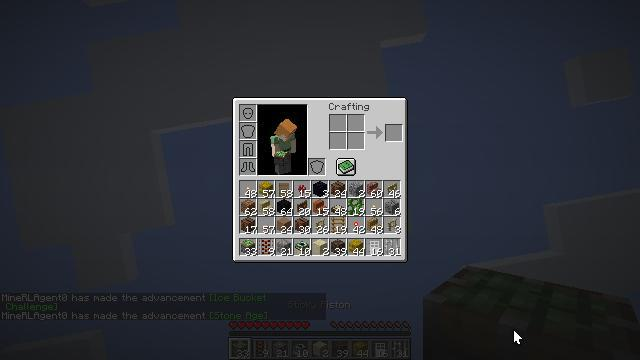cursor: (513, 329, 523, 345)
